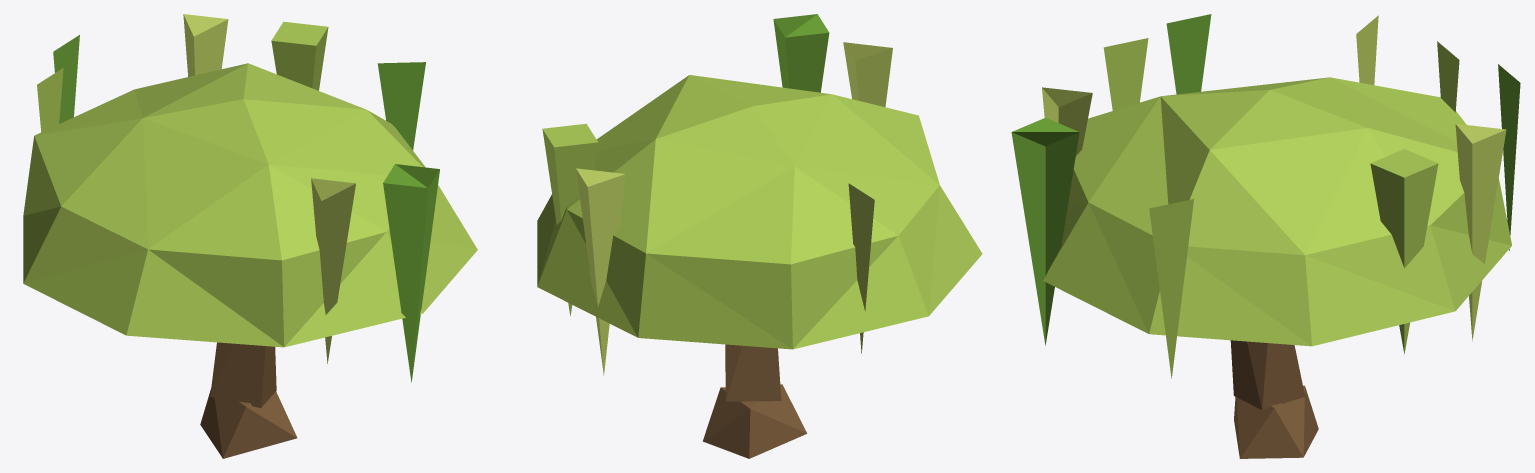
The model's file is tree_willow_3_lod1.glb.
3 views of the same model, side by side, from view 1: azimuth 30°, elevation 25°; view 2: azimuth 150°, elevation 25°; view 3: azimuth 270°, elevation 25° (orthographic). The views are drawn at different scales.
Parts seen in each view (by area): view 1: tree_willow_3_lod1; view 2: tree_willow_3_lod1; view 3: tree_willow_3_lod1.
Boxes of the visible parts, left/top/right/bottom form: tree_willow_3_lod1: left=23, top=14, right=477, bottom=458; tree_willow_3_lod1: left=537, top=14, right=982, bottom=458; tree_willow_3_lod1: left=1011, top=14, right=1520, bottom=458.
Size of the model in its own units: 5.66 by 4.5 by 5.94.
